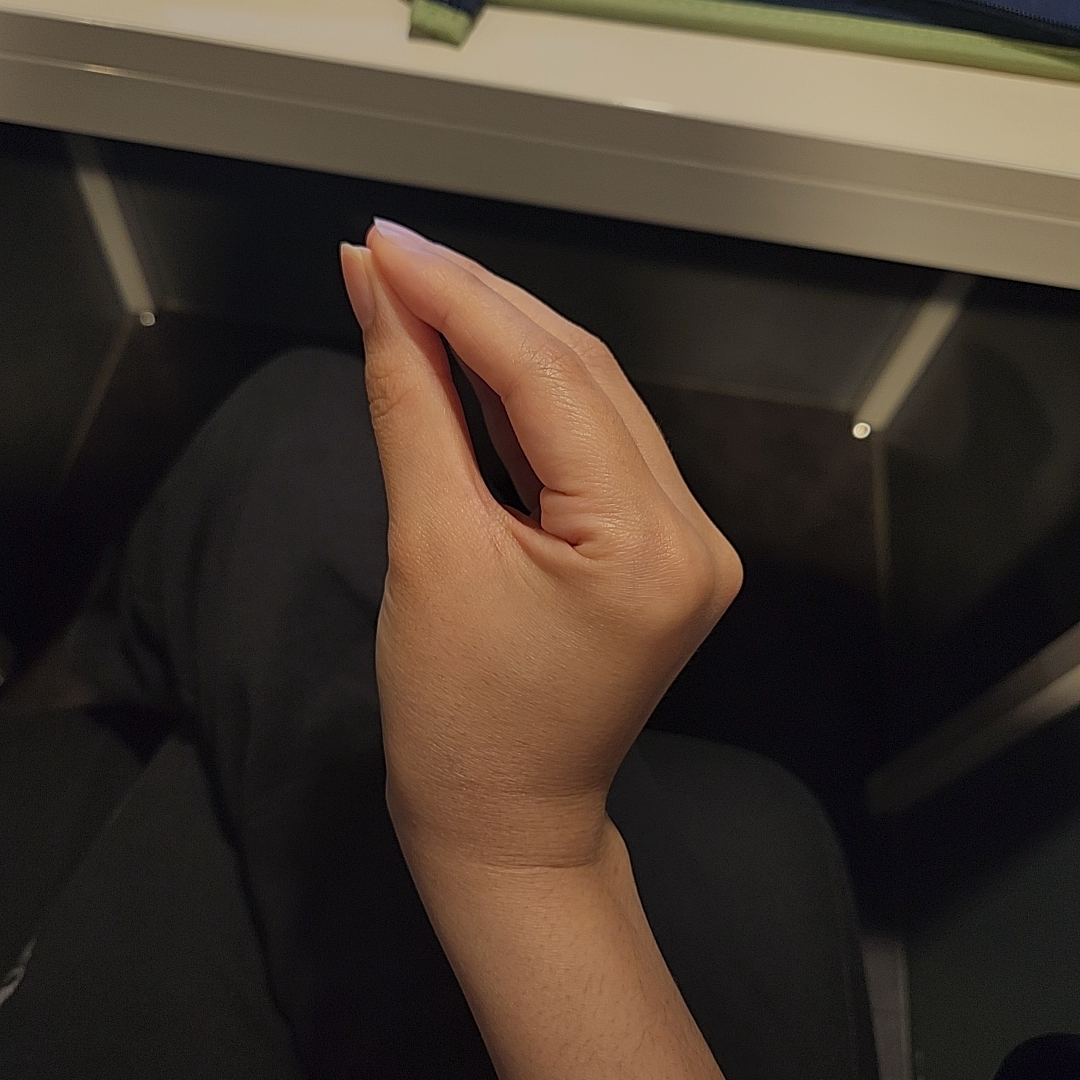happy: (330, 212, 748, 846)
